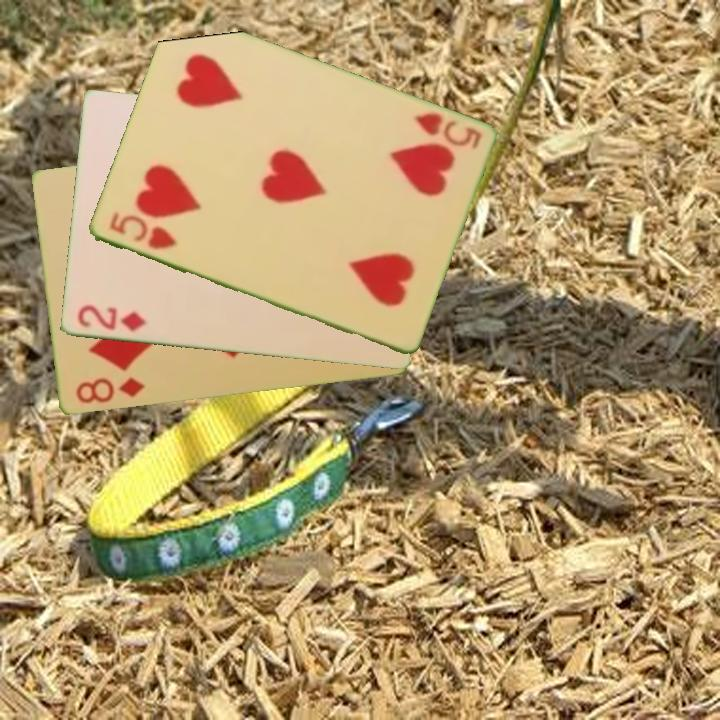2d: (74, 301, 149, 335)
5h: (105, 208, 179, 253), (409, 109, 484, 153)
8d: (71, 374, 147, 407)
